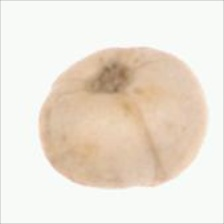L4: (39, 47, 208, 189)
